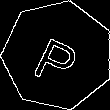P_NE: (30, 25, 86, 86)
